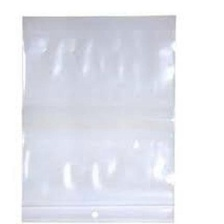plastic_bag: (16, 10, 181, 224)
